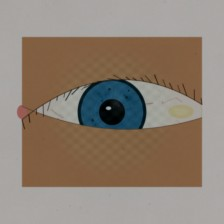pinguecula_lesion: (155, 91, 206, 132)
